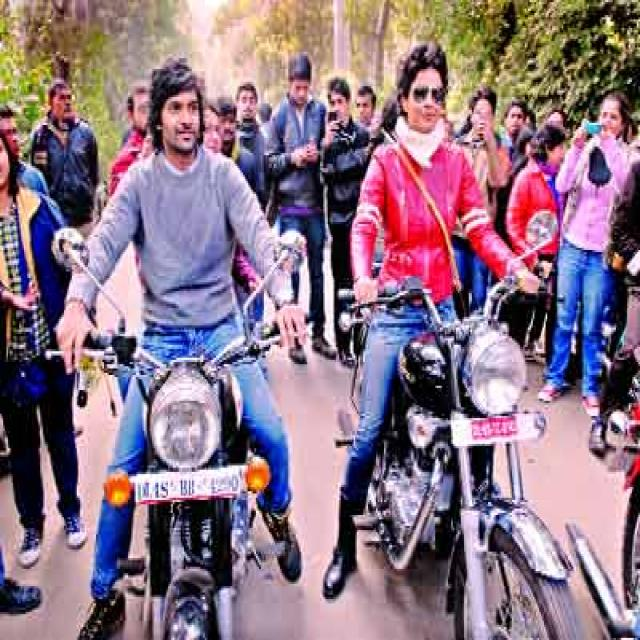without helmet: (139, 53, 223, 161), (393, 32, 455, 146)
